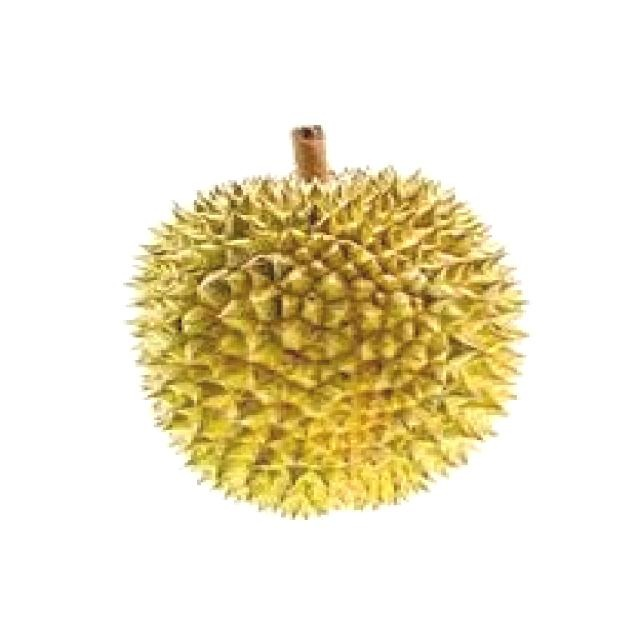agrume: (124, 142, 548, 538)
